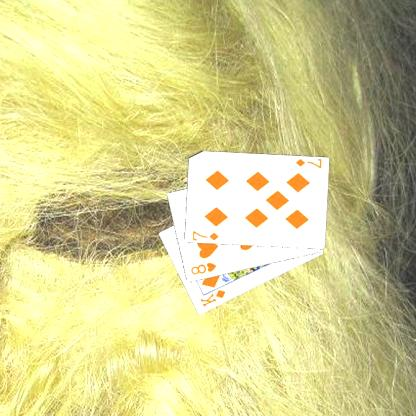7D: (189, 228, 220, 241), (292, 157, 323, 170)
8H: (187, 260, 218, 276)
KD: (198, 287, 228, 308)
